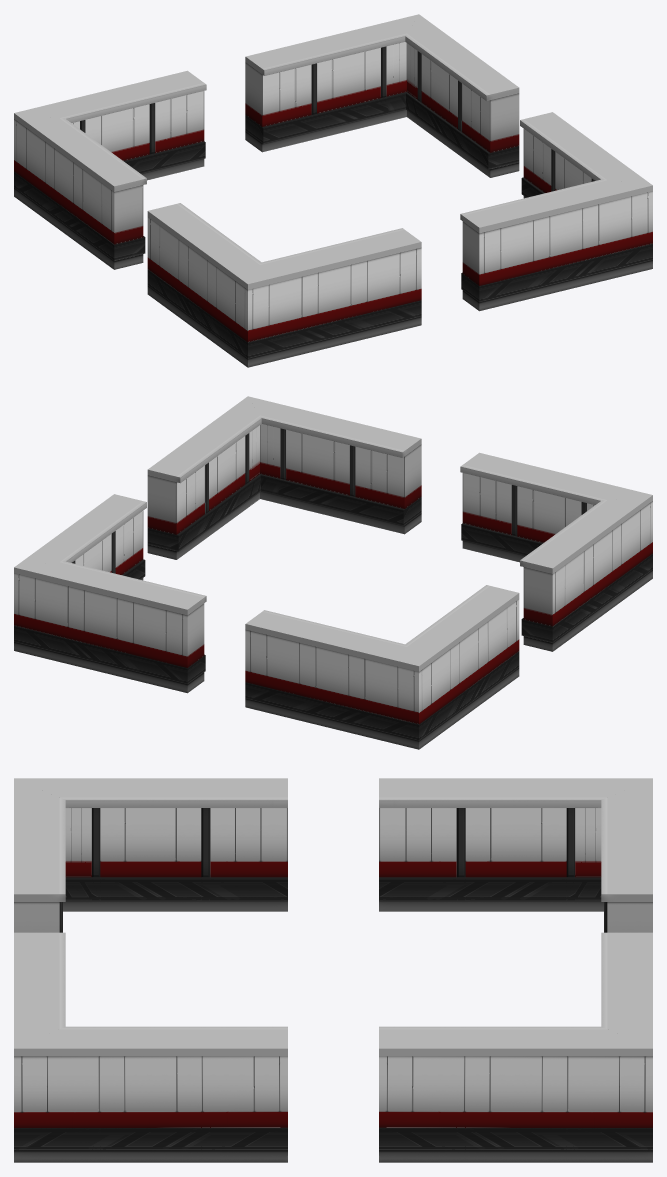
The model's file is Room04.FBX.
3 views of the same model, one above another, from view 1: azimuth 30°, elevation 25°; view 2: azimuth 150°, elevation 25°; view 3: azimuth 270°, elevation 25° (orthographic). The views are drawn at different scales.
Parts seen in each view (by area): view 1: Box047, Box049, Box052, Box055, Box051, Box050, Box054, Box048; view 2: Box052, Box054, Box047, Box050, Box048, Box055, Box049, Box051; view 3: Box048, Box051, Box050, Box055, Box049, Box054, Box047, Box052.
Part boxes in pixels (x1,y1,x2,y2): Box047: (460, 179, 652, 311); Box049: (248, 228, 421, 367); Box052: (245, 14, 418, 152); Box055: (14, 113, 146, 269); Box051: (405, 14, 519, 177); Box050: (147, 203, 261, 367); Box054: (15, 70, 206, 180); Box048: (520, 112, 652, 198); Box052: (14, 561, 206, 693); Box054: (245, 610, 418, 749); Box047: (248, 396, 421, 534); Box050: (520, 495, 652, 651); Box048: (147, 396, 261, 559); Box055: (405, 585, 519, 749); Box049: (460, 452, 651, 562); Box051: (14, 494, 146, 580); Box048: (14, 1026, 287, 1162); Box051: (379, 1026, 652, 1162); Box050: (14, 778, 287, 911); Box055: (379, 778, 652, 911); Box049: (14, 778, 65, 932); Box054: (601, 778, 652, 932); Box047: (14, 932, 65, 1048); Box052: (601, 932, 652, 1048).
Bounding box in the file's own units: 140 × 27.57 × 140.
Materials: 1 (1 with a texture image).
